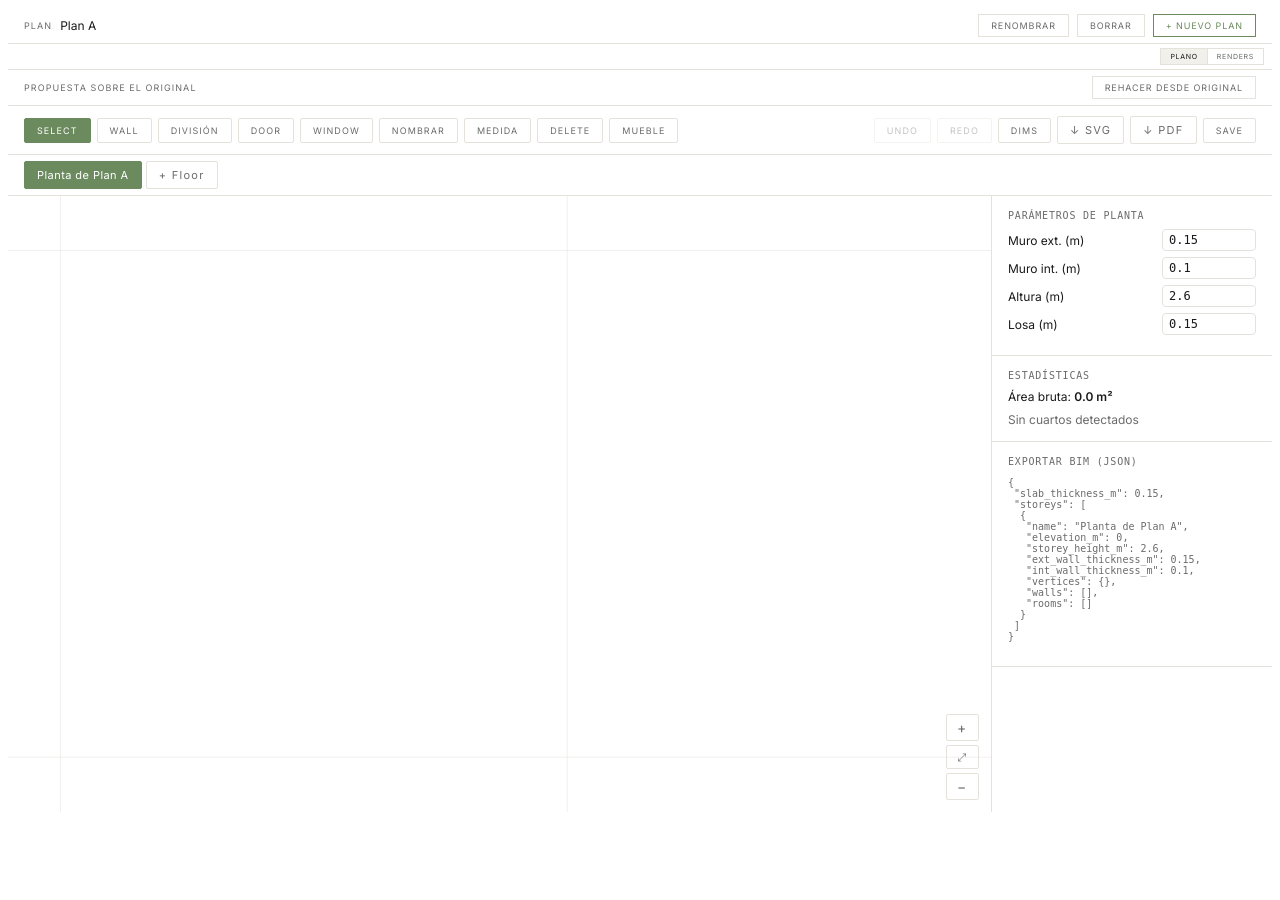
Scenario: PlanesPanel › BORRAR sin renders avisa sin conteo
Click the button "BORRAR" at point(1111, 26), box x1=1077 y1=14 x2=1145 y2=37
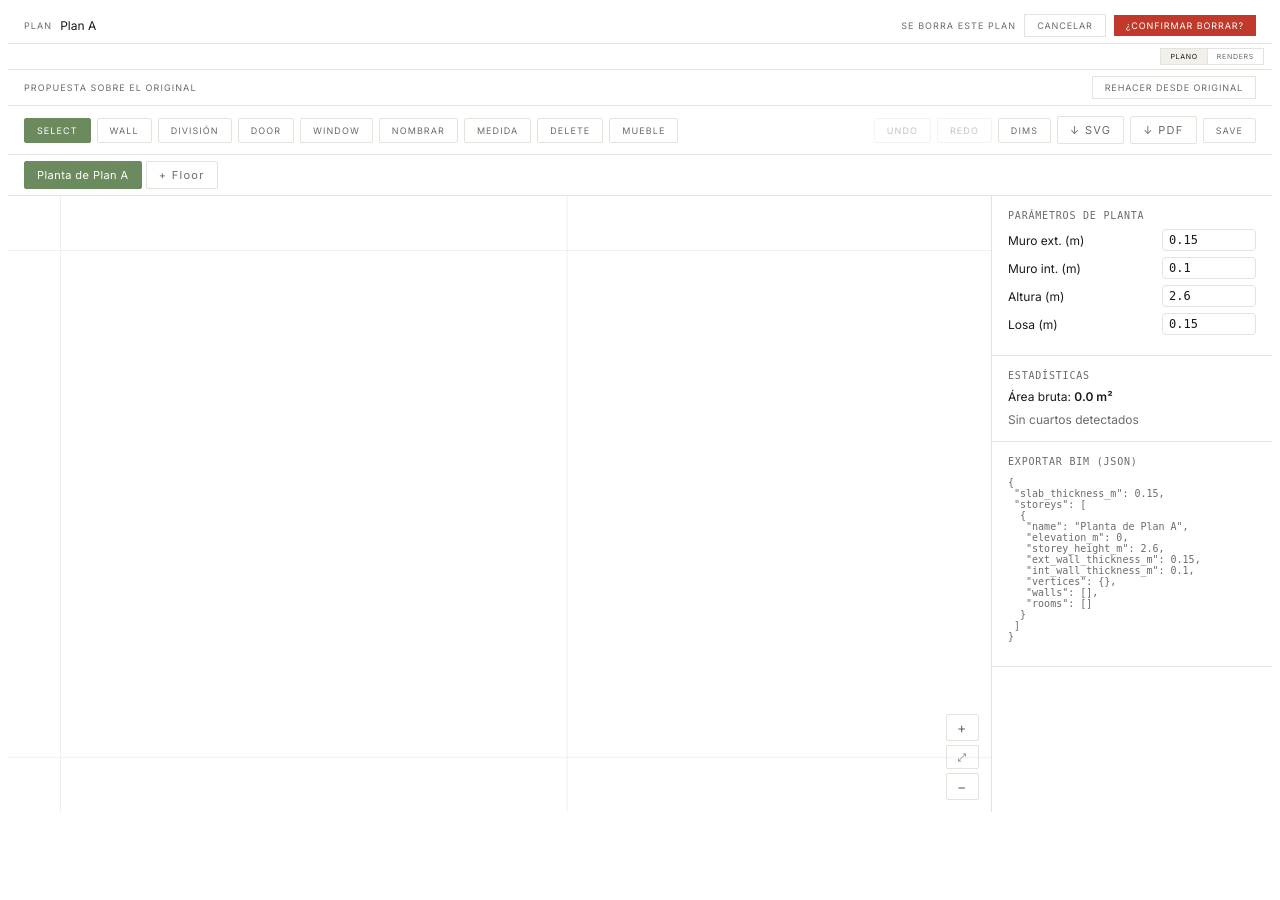
Now the text "SE BORRA ESTE PLAN" is shown, box x1=901 y1=20 x2=1016 y2=31
